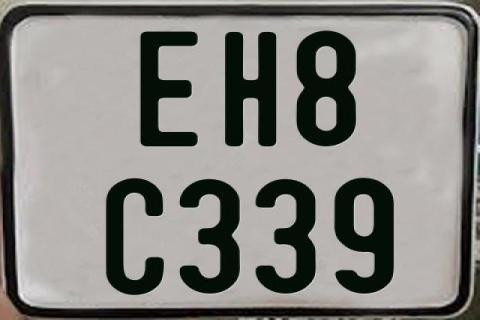0: (255, 178, 322, 296), (332, 178, 397, 298), (294, 30, 359, 148), (176, 177, 242, 292)
C: (104, 176, 166, 296)
E: (137, 31, 198, 146)
H: (225, 32, 277, 149)
